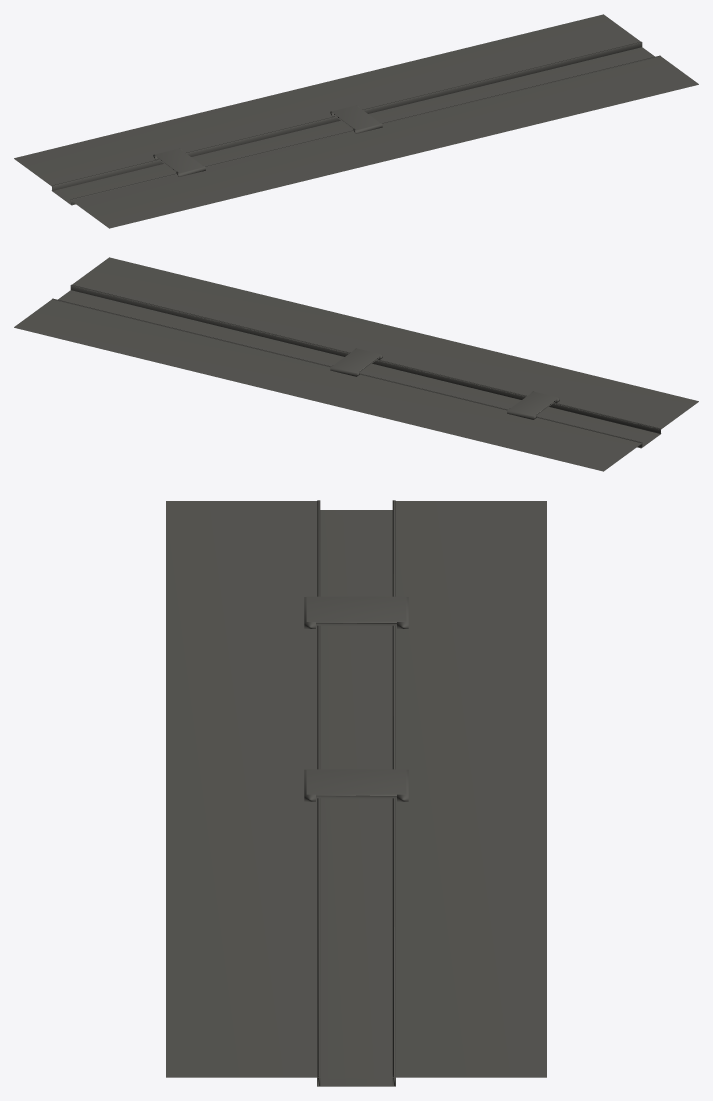
The picture shows the model from 3 angles, top to bottom: view 1: azimuth 30°, elevation 25°; view 2: azimuth 150°, elevation 25°; view 3: azimuth 270°, elevation 25°; orthographic projection. The views are drawn at different scales.
Parts seen in each view (by area): view 1: ground_lod2, water_lod2, walls_bed_lod2, bridges_lod2; view 2: ground_lod2, water_lod2, walls_bed_lod2, bridges_lod2; view 3: ground_lod2, water_lod2, walls_bed_lod2, bridges_lod2.
Boxes of the visible parts, <box> form: ground_lod2: <box>14,14,698,228</box>; water_lod2: <box>61,49,649,198</box>; walls_bed_lod2: <box>51,41,660,205</box>; bridges_lod2: <box>153,105,382,176</box>; ground_lod2: <box>14,257,698,471</box>; water_lod2: <box>63,292,651,441</box>; walls_bed_lod2: <box>52,284,661,448</box>; bridges_lod2: <box>330,348,559,419</box>; ground_lod2: <box>166,501,546,1077</box>; water_lod2: <box>328,514,384,1078</box>; walls_bed_lod2: <box>317,500,395,1086</box>; bridges_lod2: <box>304,596,408,801</box>.
Size of the model in its own units: 300 by 4.3 by 84.
Materials: 4 (4 with a texture image).
